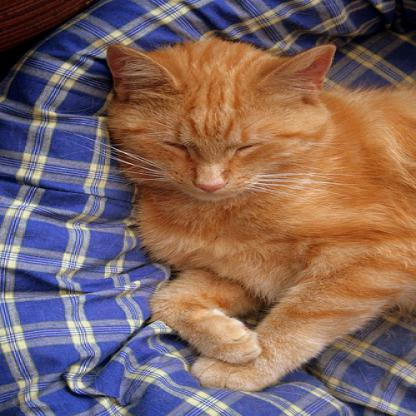cat: (75, 23, 415, 394)
